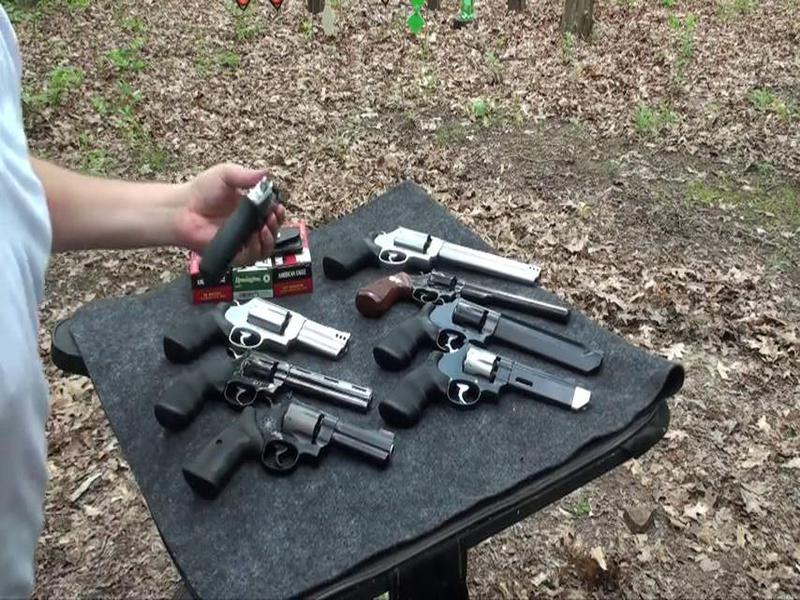Revolver: (322, 204, 538, 302)
